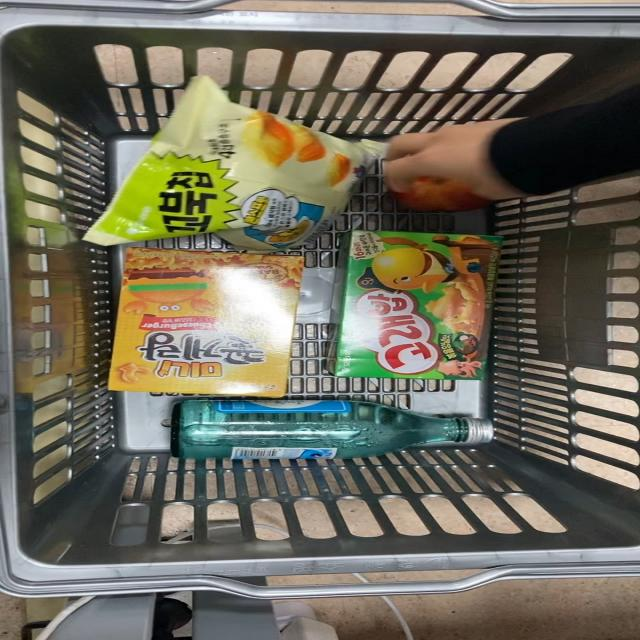ggobukchip: (90, 83, 369, 244)
goraebob: (318, 230, 510, 377)
jinro: (167, 402, 493, 469)
minicrab: (108, 238, 311, 396)
